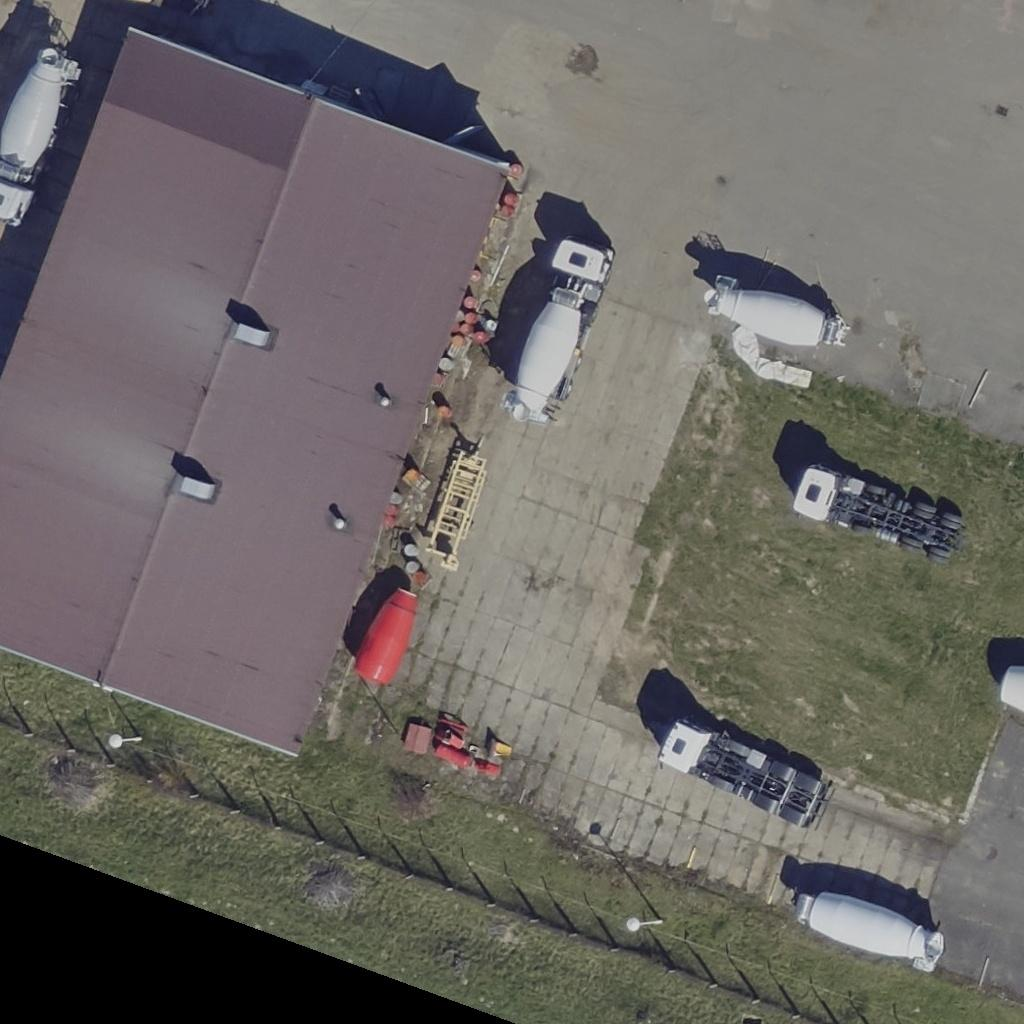betoniarka: (503, 237, 614, 421), (0, 48, 79, 226), (355, 589, 417, 684)
